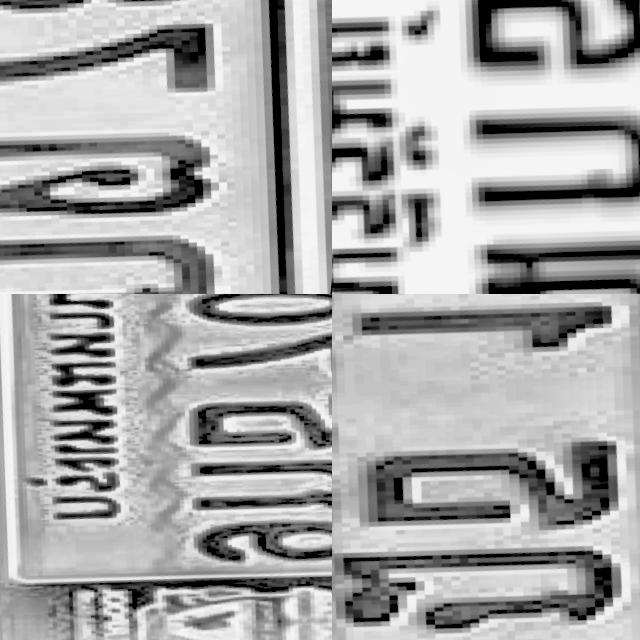license-plate: (0, 294, 332, 640), (332, 294, 640, 640), (0, 0, 332, 294), (332, 0, 640, 294)
